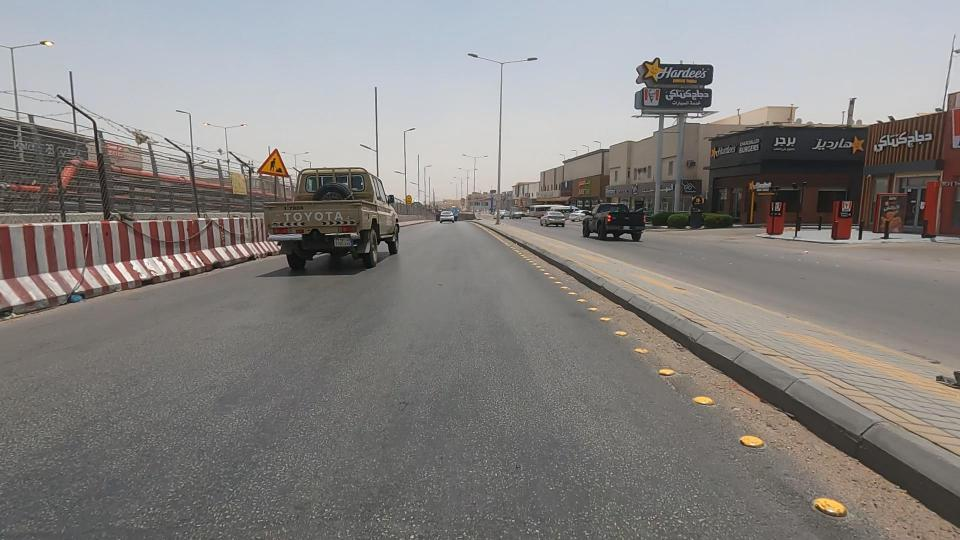CONSTRUCTION_ROAD: (0, 56, 348, 345), (367, 173, 458, 241)
